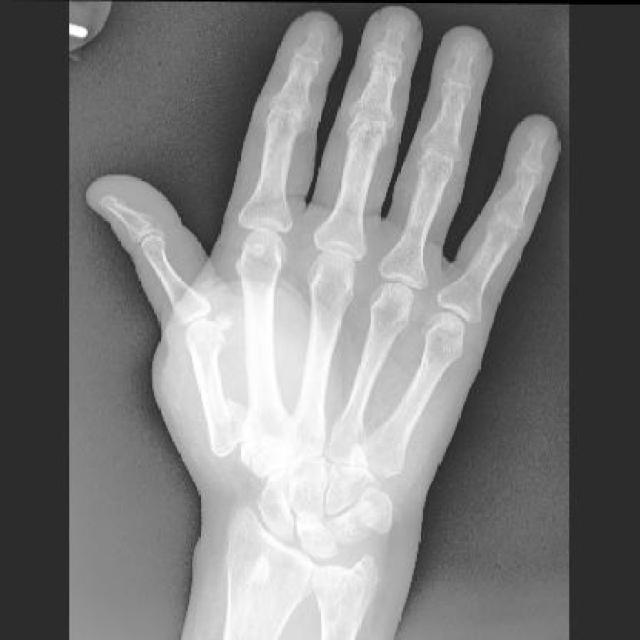Fracture: (206, 394, 266, 462)
